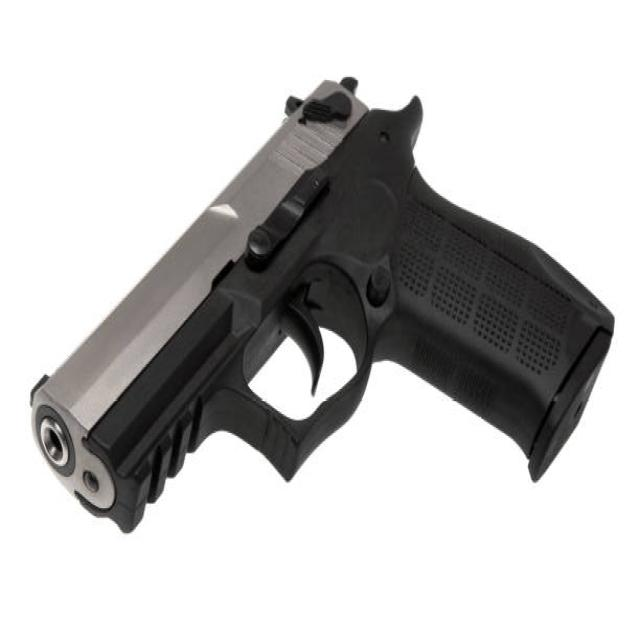pistol: (21, 63, 622, 540)
